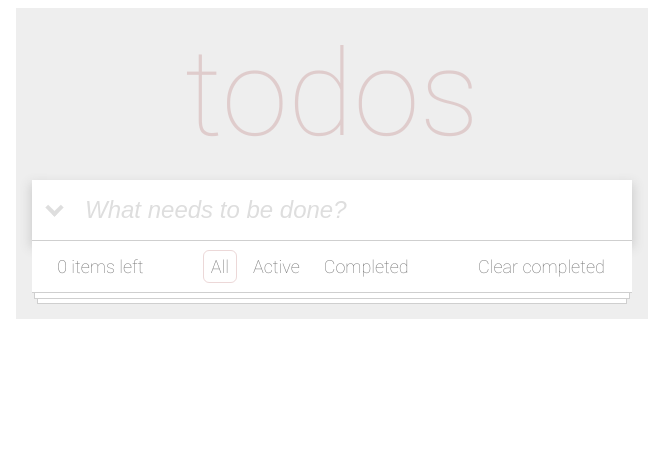
Test: TodoApp Component › delete complited tasks
Type "Test Task 1" into the field with placeholder "What needs to be done?".
click(354, 210); type("Test Task 1")  # box left=77, top=180, right=632, bottom=240
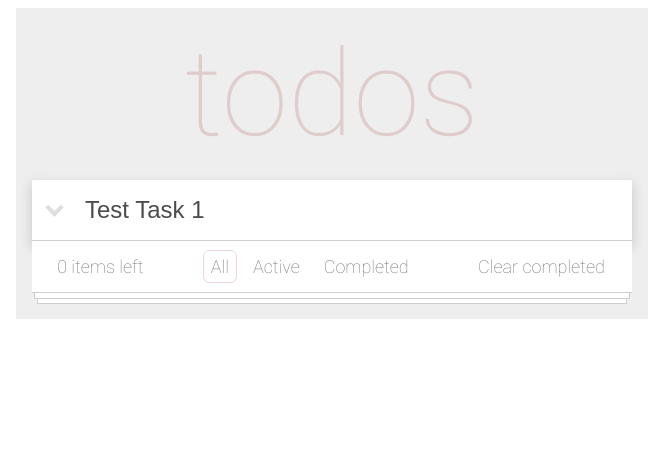
Submit the form named "to create a new task", box left=32, top=180, right=632, bottom=241
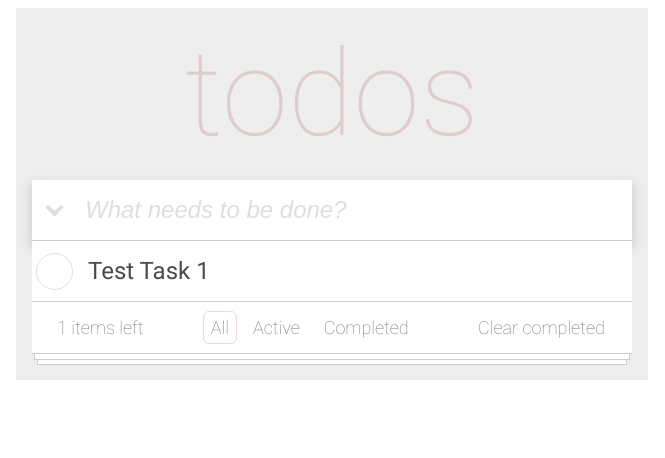
Type "Test Task 2" into the field with placeholder "What needs to be done?".
click(354, 210); type("Test Task 2")  # box left=77, top=180, right=632, bottom=240
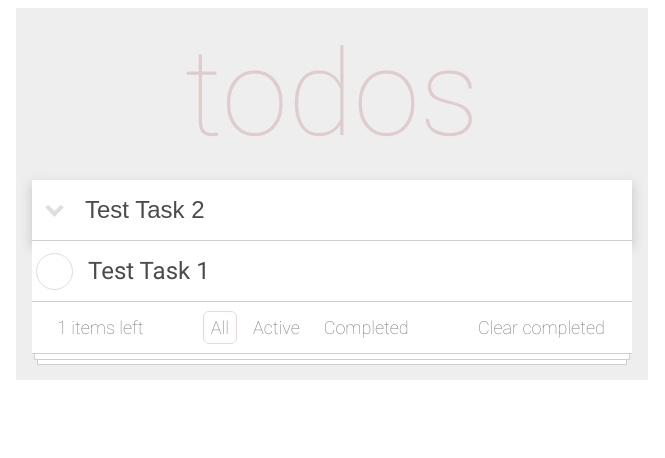
Submit the form named "to create a new task", box left=32, top=180, right=632, bottom=241
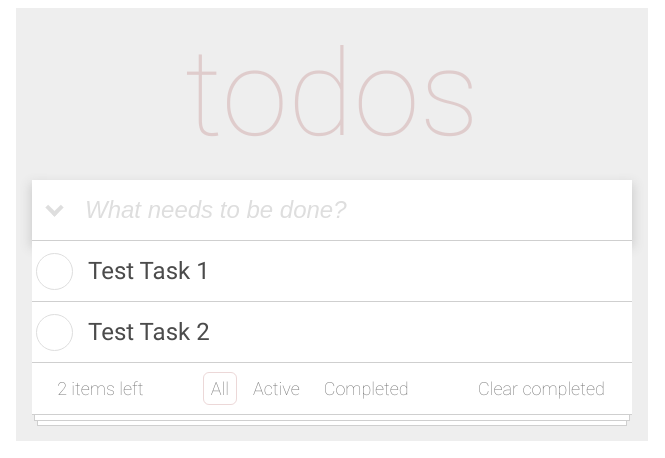
Click the checkbox labelled "Test Task 1".
click(54, 271)  # box left=37, top=254, right=72, bottom=288
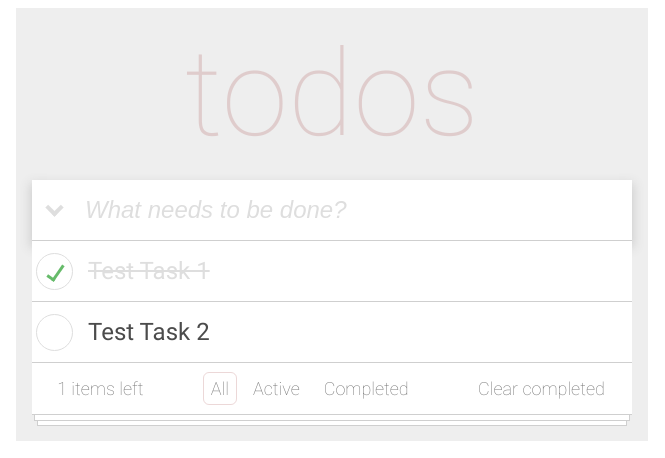
Click the button "Clear completed".
click(541, 388)  # box left=476, top=376, right=607, bottom=401
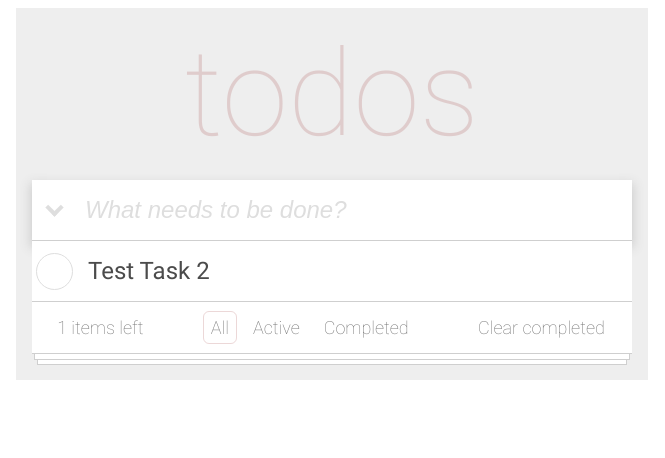
Check: the text "Test Task 2" is shown, box left=88, top=257, right=210, bottom=285
Check: the text "Test Task 1" is gone
